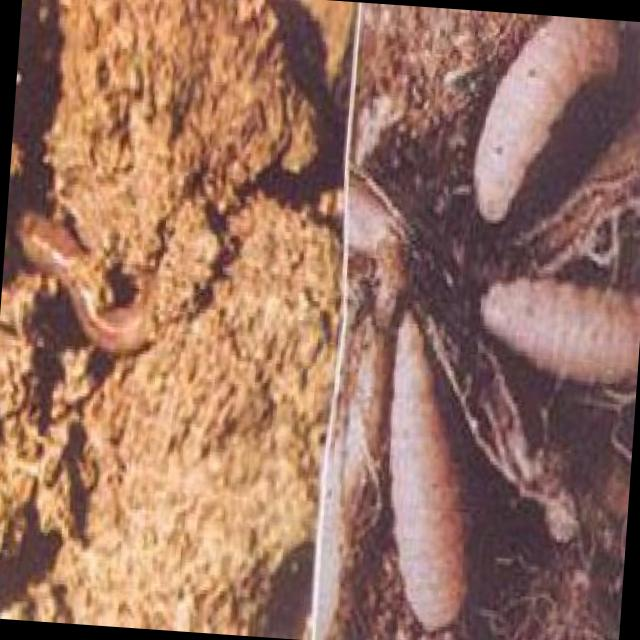whorl-maggot: (471, 18, 627, 227), (388, 317, 463, 634), (476, 280, 640, 384)
